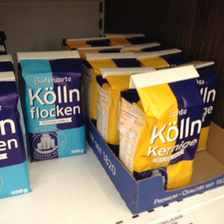cereal: (118, 64, 207, 195), (14, 49, 89, 164)
